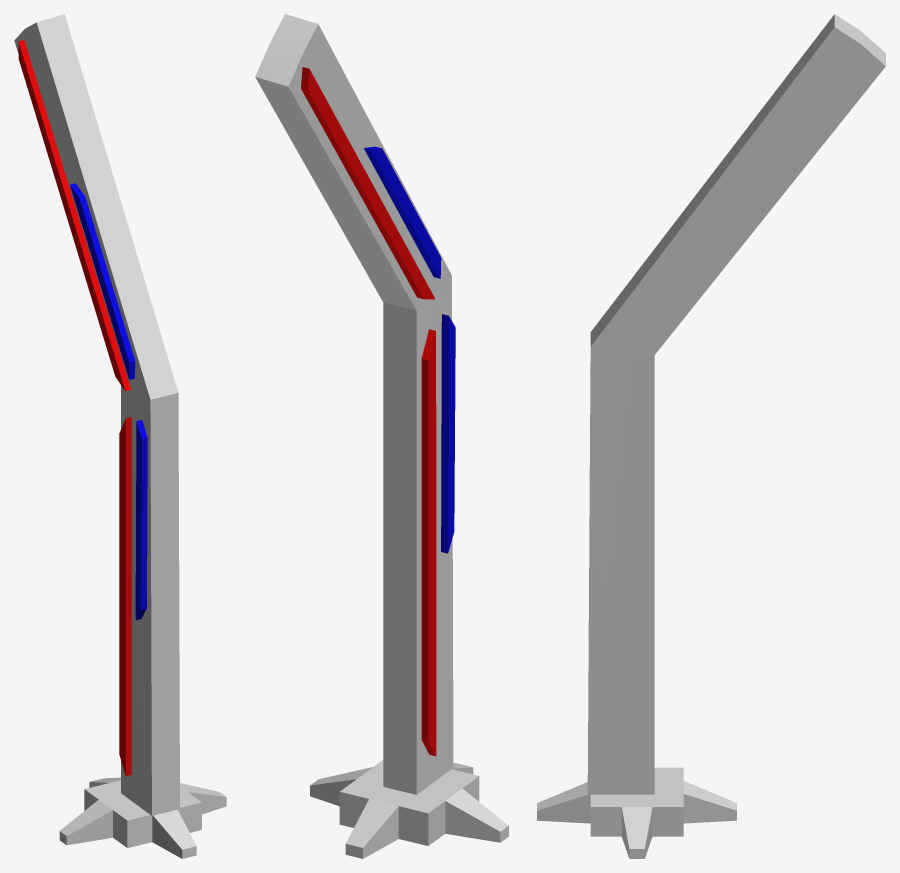
Rendered from Base_Light.fbx.
3 views of the same model, side by side, from view 1: azimuth 30°, elevation 25°; view 2: azimuth 150°, elevation 25°; view 3: azimuth 270°, elevation 25° (orthographic). The views are drawn at different scales.
Parts seen in each view (by area): view 1: Base_Light; view 2: Base_Light; view 3: Base_Light.
Part boxes in pixels (box(x1,y1,x2,y2)): Base_Light: box(14, 14, 226, 858); Base_Light: box(255, 14, 508, 858); Base_Light: box(537, 14, 885, 858).
Bounding box in the file's own units: 38.71 × 171 × 67.75.
